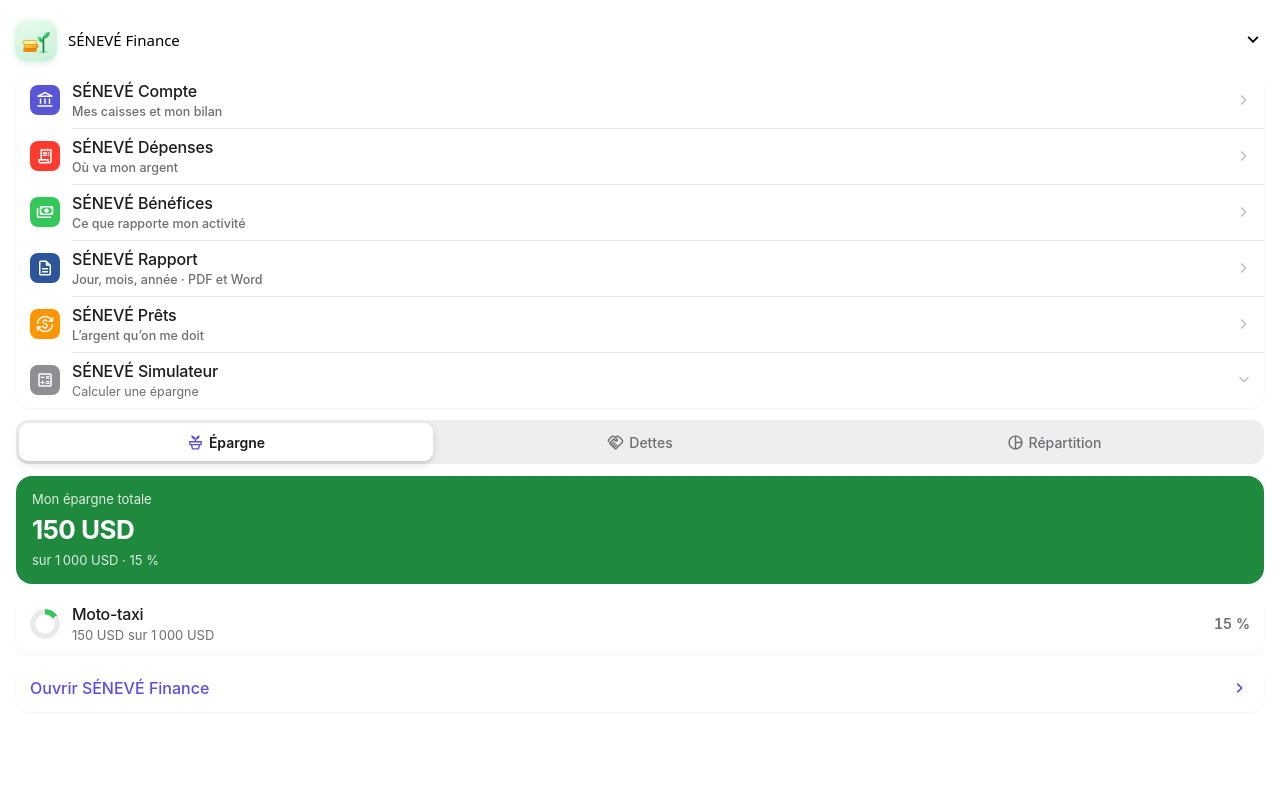
Test: « SÉNEVÉ Finance » remplace « Épargne » et montre épargne, dettes et simulateur
Later steps or results of the test are not shown.
expect the heading "SÉNEVÉ Finance" is shown: met, box [16,16,1264,64]
Dettes : seulement celles qui restent à rembourser.
Click the tab "Dettes".
click(640, 442)  # box [433,423,847,461]
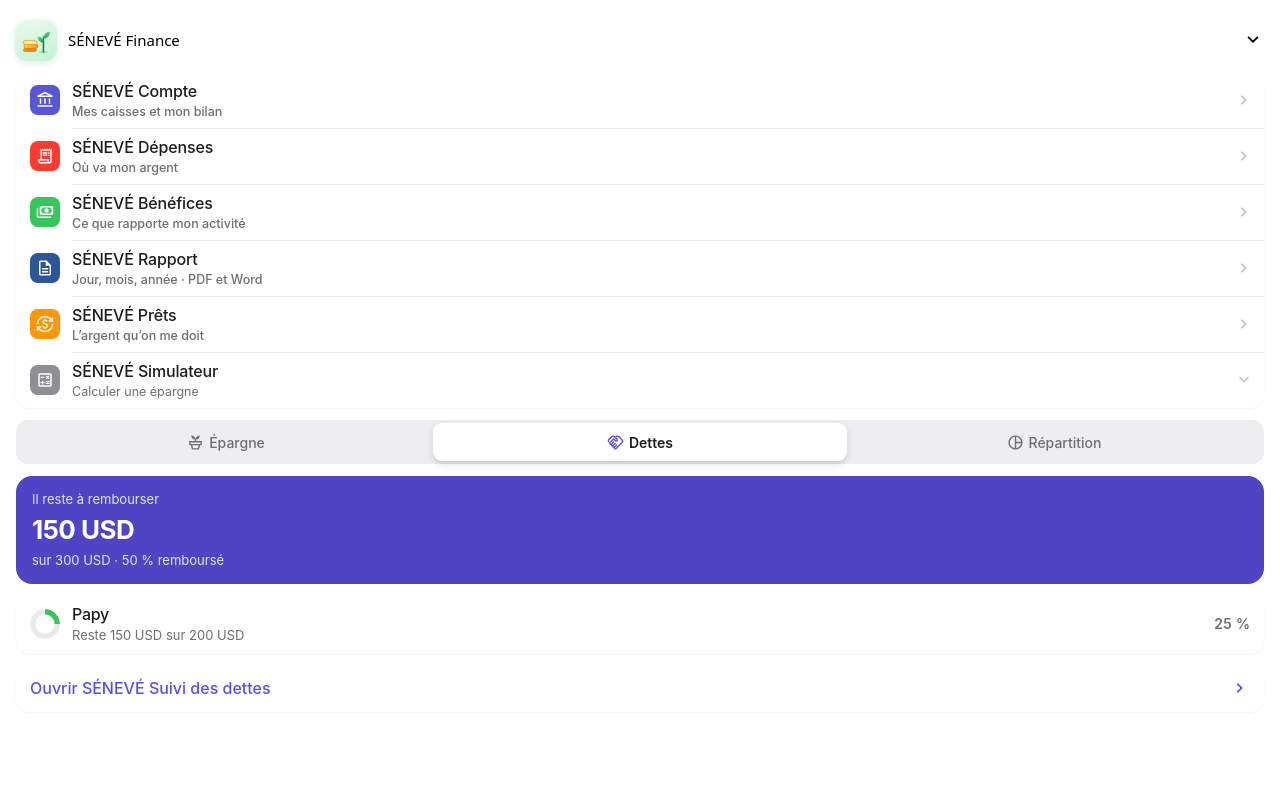
expect the link "Ouvrir SÉNEVÉ Suivi des dettes" has attribute href="/habitudes/dettes": met, box [16,664,1264,712]
Click the tab "Répartition".
click(1054, 442)  # box [847,423,1261,461]
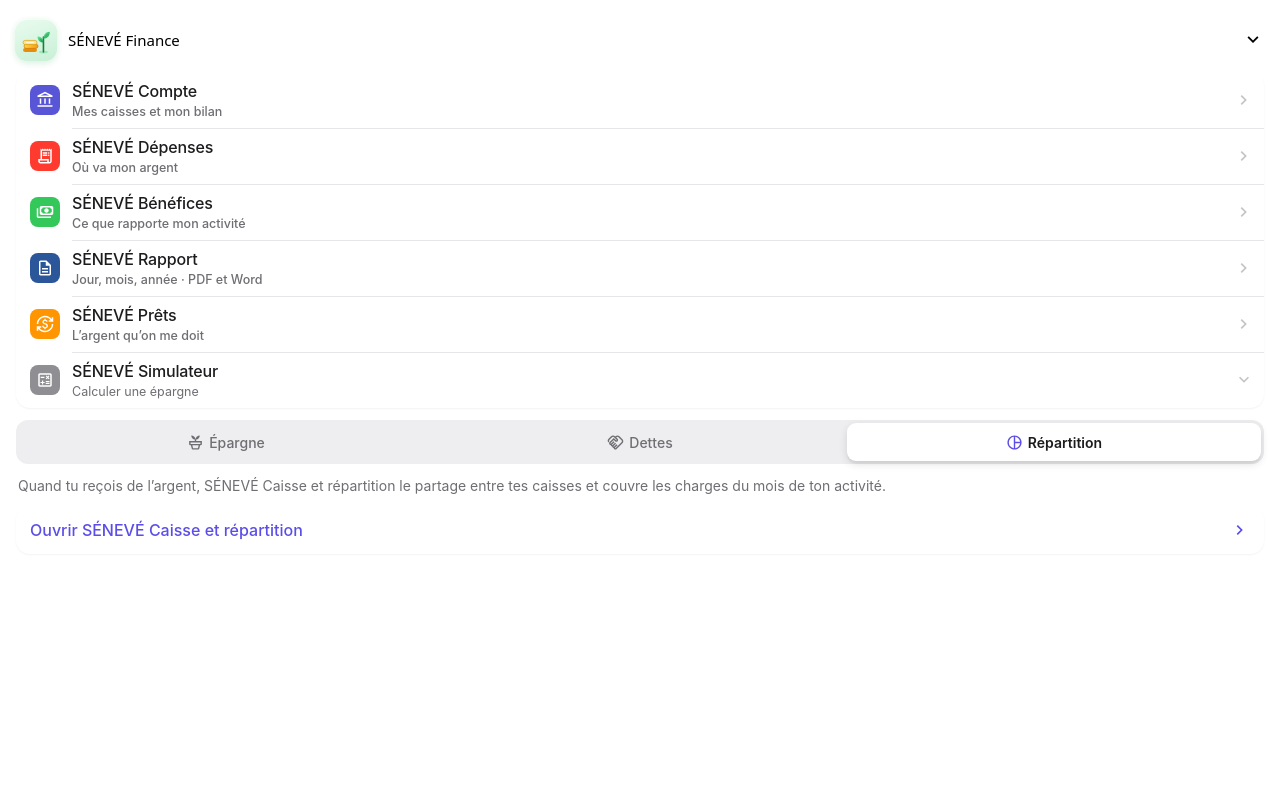
expect the link "Ouvrir SÉNEVÉ Caisse et répartition" has attribute href="/habitudes/repartition": met, box [16,506,1264,554]
